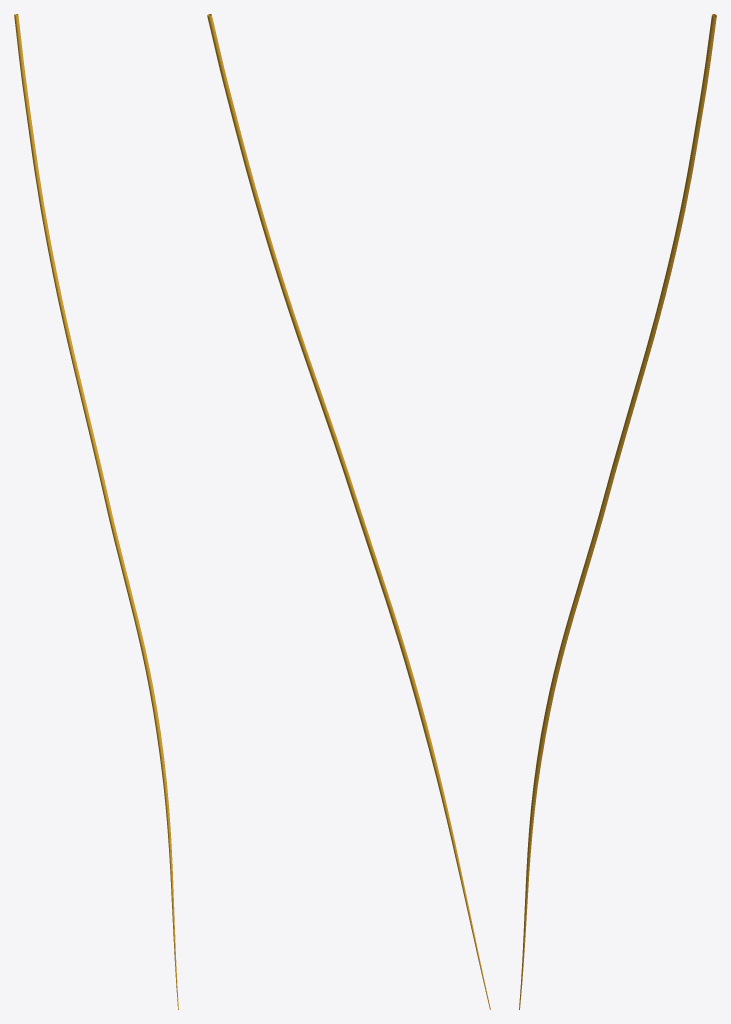
File: nervoso-anterior-branch-of-medial-antebrachial-cutaneous-nerve-r.glb
3 renders of one model, left to right at view 1: azimuth 90°, elevation 25°; view 2: azimuth 150°, elevation 25°; view 3: azimuth 270°, elevation 25°, orthographic. The views are drawn at different scales.
Visible parts, largest first — view 1: Anterior branch of medial antebrachial cutaneous nerve.r; view 2: Anterior branch of medial antebrachial cutaneous nerve.r; view 3: Anterior branch of medial antebrachial cutaneous nerve.r.
Boxes of the visible parts, bbox=[...] form: Anterior branch of medial antebrachial cutaneous nerve.r: bbox=[14, 14, 178, 1009]; Anterior branch of medial antebrachial cutaneous nerve.r: bbox=[207, 14, 490, 1009]; Anterior branch of medial antebrachial cutaneous nerve.r: bbox=[519, 14, 716, 1009].
Bounding box in the file's own units: 0.0468 × 0.2348 × 0.0385.
